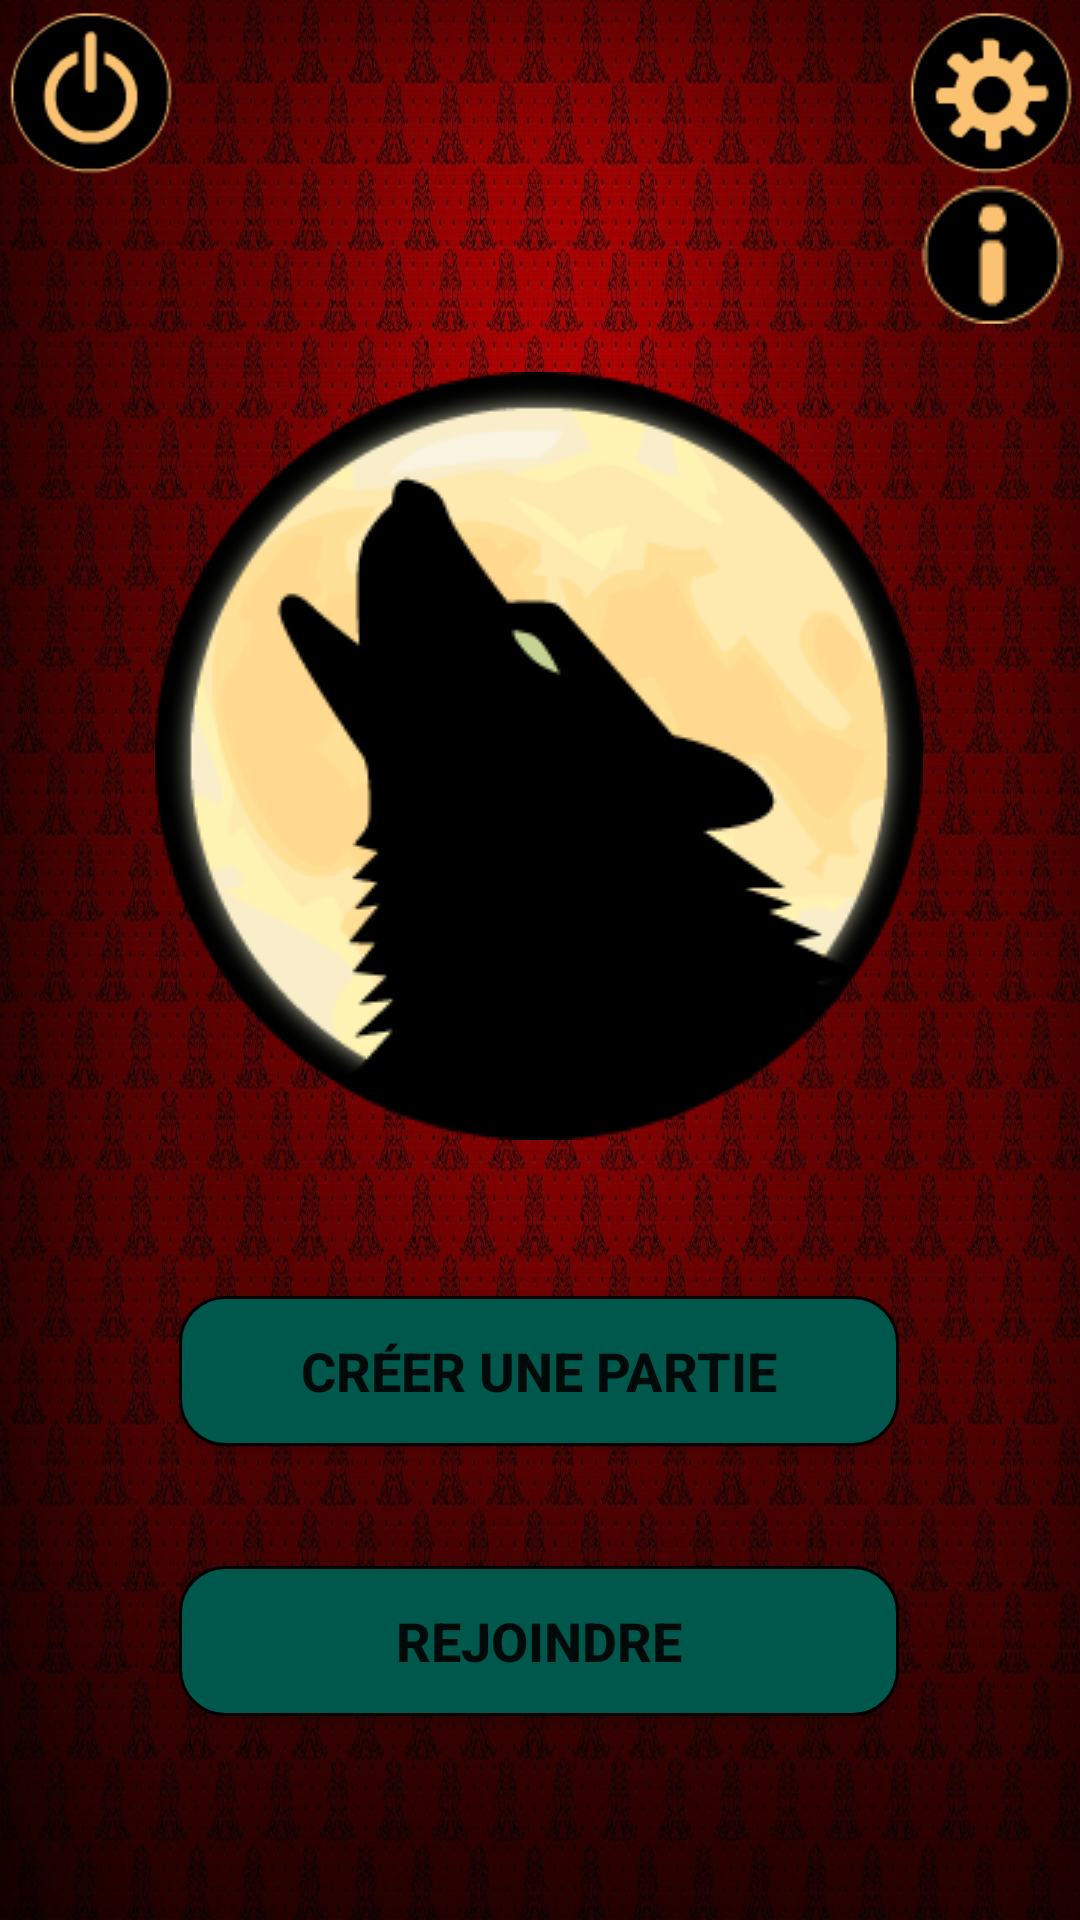

Icon click points for this 1080px×1920px phone screenshot, format (x=x, y=y):
bouton de deconnexion: (x=89, y=90)
bouton parametres: (x=990, y=90)
tuto: (x=990, y=252)
